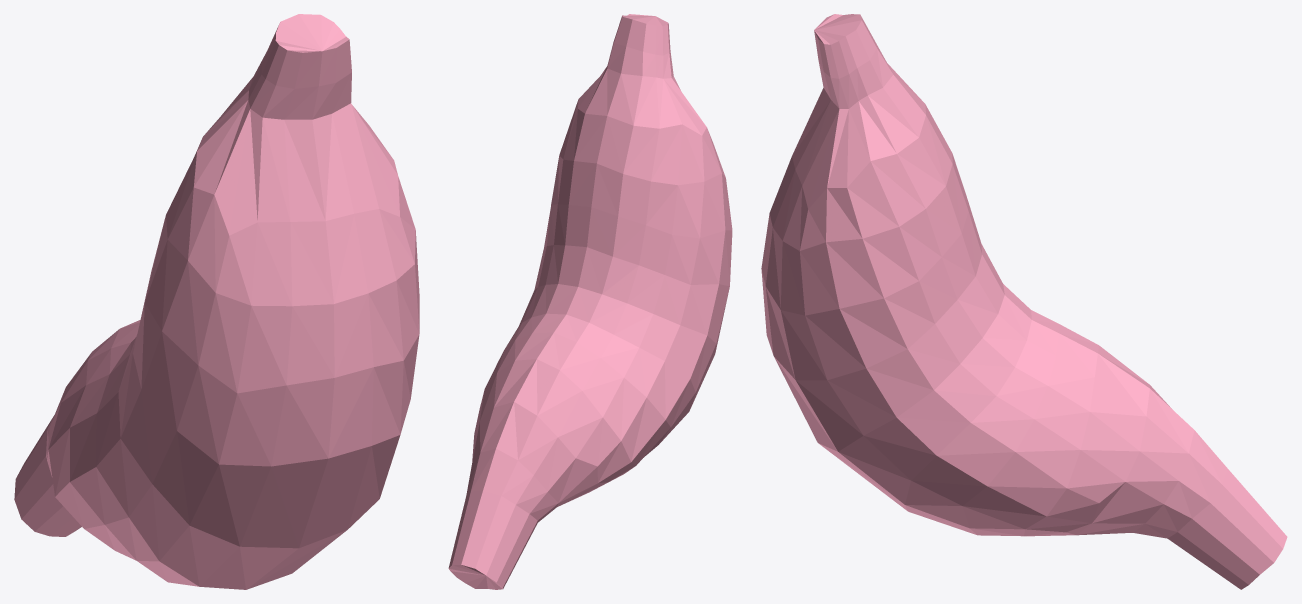
3 renders of one model, left to right at view 1: azimuth 30°, elevation 25°; view 2: azimuth 150°, elevation 25°; view 3: azimuth 270°, elevation 25°, orthographic. The views are drawn at different scales.
Parts seen in each view (by area): view 1: pCube1; view 2: pCube1; view 3: pCube1.
Part boxes in pixels (<box>): pCube1: <box>14,14,419,589</box>; pCube1: <box>448,14,732,589</box>; pCube1: <box>761,14,1287,589</box>.
Size of the model in its own units: 3.28 by 8.26 by 6.96.
Materials: 1 (1 with a texture image).
